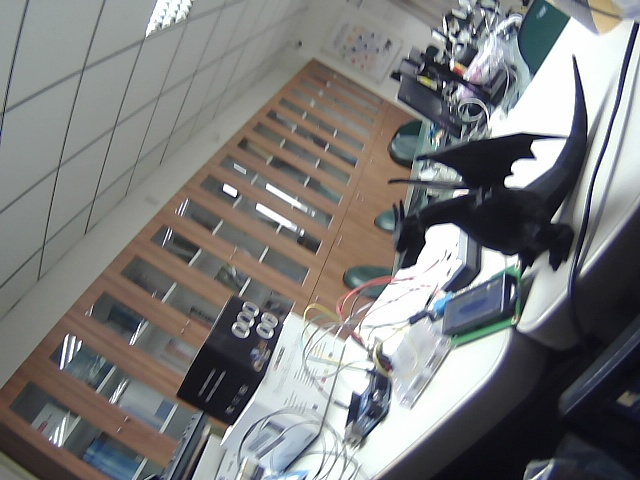charizard: (366, 48, 602, 315)
